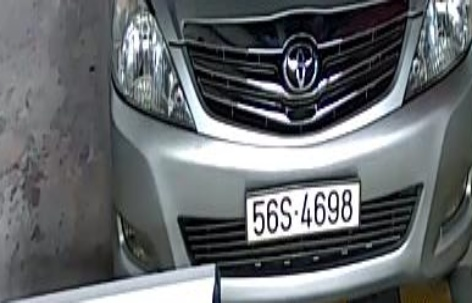plate: (239, 170, 365, 246)
